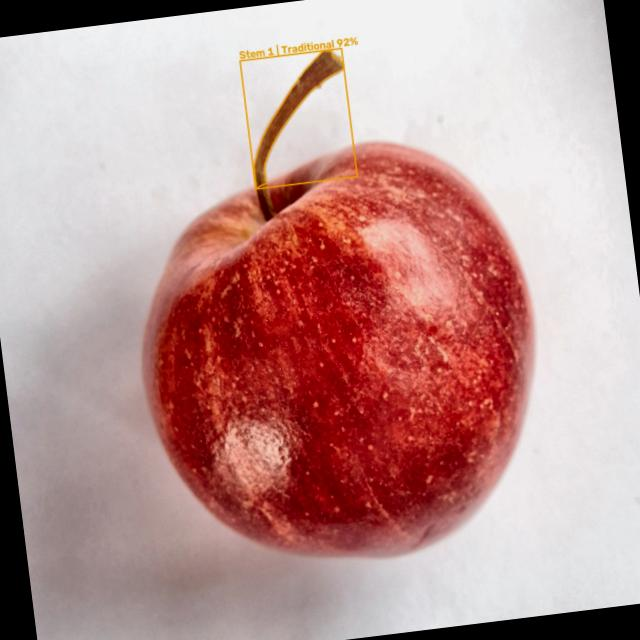Fruit-Stem-Detection: (253, 50, 343, 186)
